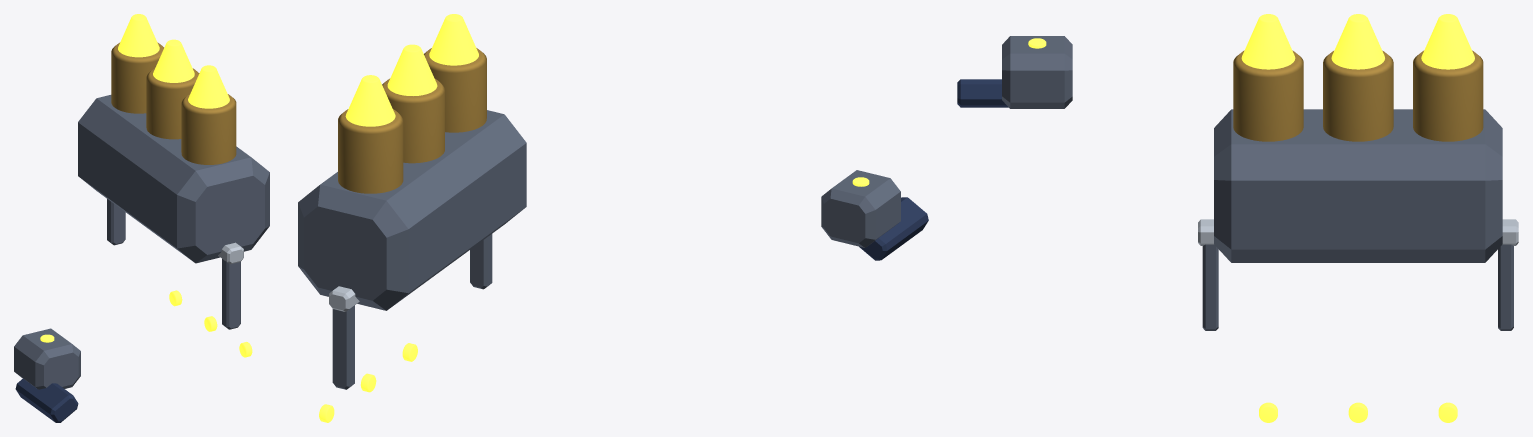
Rendered from tower_nova_rate_s5.glb.
3 views of the same model, side by side, from view 1: azimuth 30°, elevation 25°; view 2: azimuth 150°, elevation 25°; view 3: azimuth 270°, elevation 25° (orthographic). The views are drawn at different scales.
Parts seen in each view (by area): view 1: nova_hopper_ext, nova_shell_b0, nova_ejector_box, nova_shell_b1, nova_shell_b2, nova_ejector_chute, nova_shell_b_fuse0, nova_shell_b_fuse1, nova_shell_b_fuse2, nova_hoist_rail_post-0.46, nova_hoist_rail_post0.46, nova_hoist_rail; view 2: nova_hopper_ext, nova_ejector_box, nova_shell_b2, nova_shell_b0, nova_shell_b1, nova_hoist_rail_post0.46, nova_shell_b_fuse2, nova_shell_b_fuse0, nova_shell_b_fuse1, nova_ejector_chute, nova_hoist_rail_post-0.46; view 3: nova_hopper_ext, nova_shell_b2, nova_shell_b1, nova_shell_b0, nova_ejector_box, nova_shell_b_fuse0, nova_shell_b_fuse2, nova_shell_b_fuse1, nova_hoist_rail_post-0.46, nova_hoist_rail_post0.46, nova_ejector_chute, nova_hoist_rail.
Part boxes in pixels (x1,y1,x2,y2): nova_hopper_ext: (78, 95, 269, 263); nova_shell_b0: (181, 94, 236, 164); nova_ejector_box: (14, 328, 80, 389); nova_shell_b1: (146, 68, 199, 139); nova_shell_b2: (111, 42, 163, 113); nova_ejector_chute: (15, 378, 78, 422); nova_shell_b_fuse0: (188, 65, 229, 108); nova_shell_b_fuse1: (153, 39, 194, 82); nova_shell_b_fuse2: (118, 14, 159, 57); nova_hoist_rail_post-0.46: (222, 258, 240, 329); nova_hoist_rail_post0.46: (107, 199, 125, 245); nova_hoist_rail: (218, 242, 243, 264); nova_hopper_ext: (298, 110, 526, 310); nova_ejector_box: (821, 170, 900, 247); nova_shell_b2: (338, 109, 403, 193); nova_shell_b0: (424, 48, 486, 132); nova_shell_b1: (382, 78, 444, 163); nova_hoist_rail_post0.46: (332, 305, 354, 389); nova_shell_b_fuse2: (345, 75, 395, 126); nova_shell_b_fuse0: (429, 14, 478, 65); nova_shell_b_fuse1: (387, 44, 437, 95); nova_ejector_chute: (859, 197, 928, 260); nova_hoist_rail_post-0.46: (470, 234, 492, 289); nova_hopper_ext: (1214, 109, 1502, 262); nova_shell_b2: (1413, 50, 1483, 141); nova_shell_b1: (1323, 50, 1393, 141); nova_shell_b0: (1233, 50, 1303, 141); nova_ejector_box: (1002, 36, 1072, 108); nova_shell_b_fuse0: (1241, 14, 1295, 69); nova_shell_b_fuse2: (1421, 14, 1474, 69); nova_shell_b_fuse1: (1331, 14, 1384, 69); nova_hoist_rail_post-0.46: (1202, 244, 1218, 330); nova_hoist_rail_post0.46: (1498, 244, 1513, 330); nova_ejector_chute: (957, 79, 1008, 107); nova_hoist_rail: (1198, 219, 1518, 245).
Bounding box in the file's own units: 1.5 × 1.31 × 1.75.
